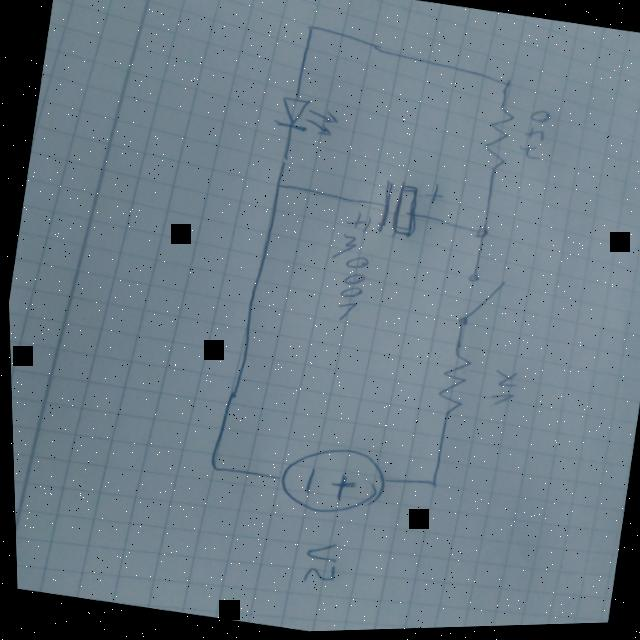capacitor: (367, 173, 445, 248)
diode: (267, 94, 343, 143)
junction: (466, 226, 493, 248), (267, 176, 291, 196), (297, 19, 322, 38), (494, 79, 516, 99), (203, 459, 225, 479), (418, 476, 439, 493)
resistor: (426, 347, 474, 423), (473, 106, 518, 178)
source: (270, 438, 388, 525)
switch: (449, 270, 508, 337)
text: (317, 208, 378, 328), (511, 105, 556, 171), (294, 539, 338, 590), (481, 365, 520, 415)
